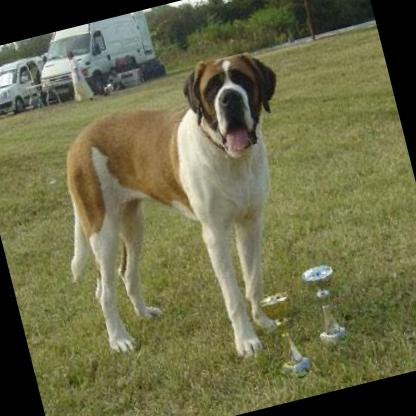Saint_Bernard: (27, 45, 340, 397)
